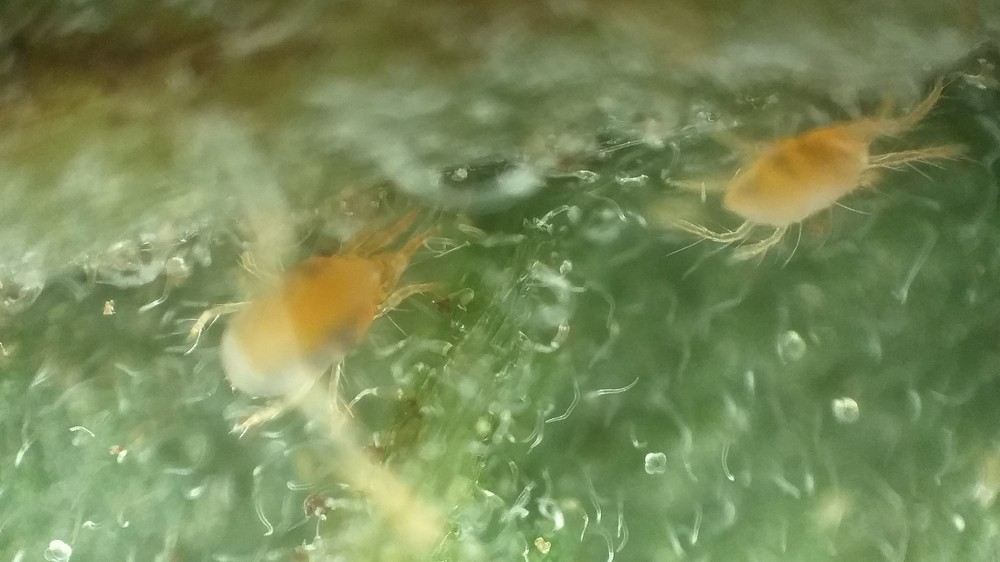Aracnido Rojo: (182, 195, 489, 432), (660, 74, 977, 264)
